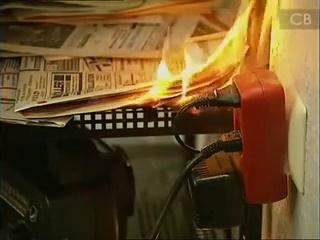Fire: (148, 7, 261, 100)
